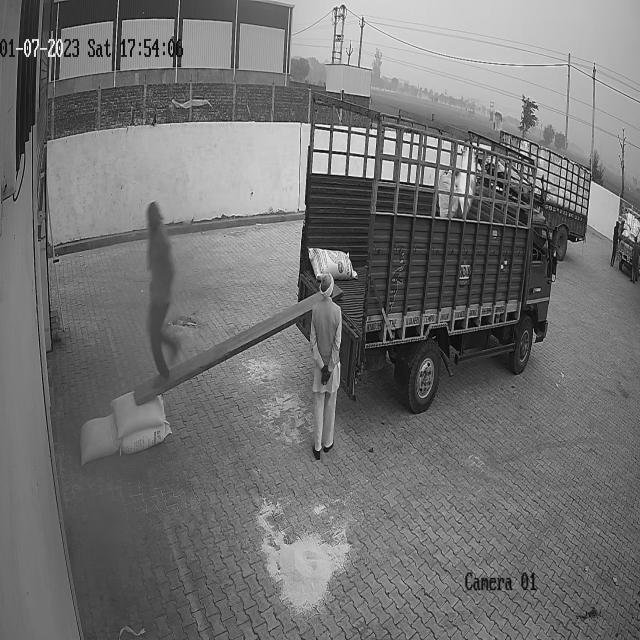sack: (111, 392, 165, 437), (79, 414, 119, 462), (307, 246, 357, 281), (120, 422, 171, 453)
